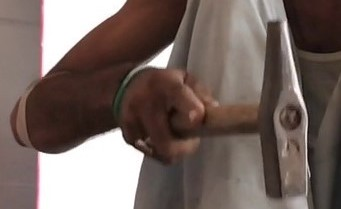hammer: (148, 18, 310, 200)
